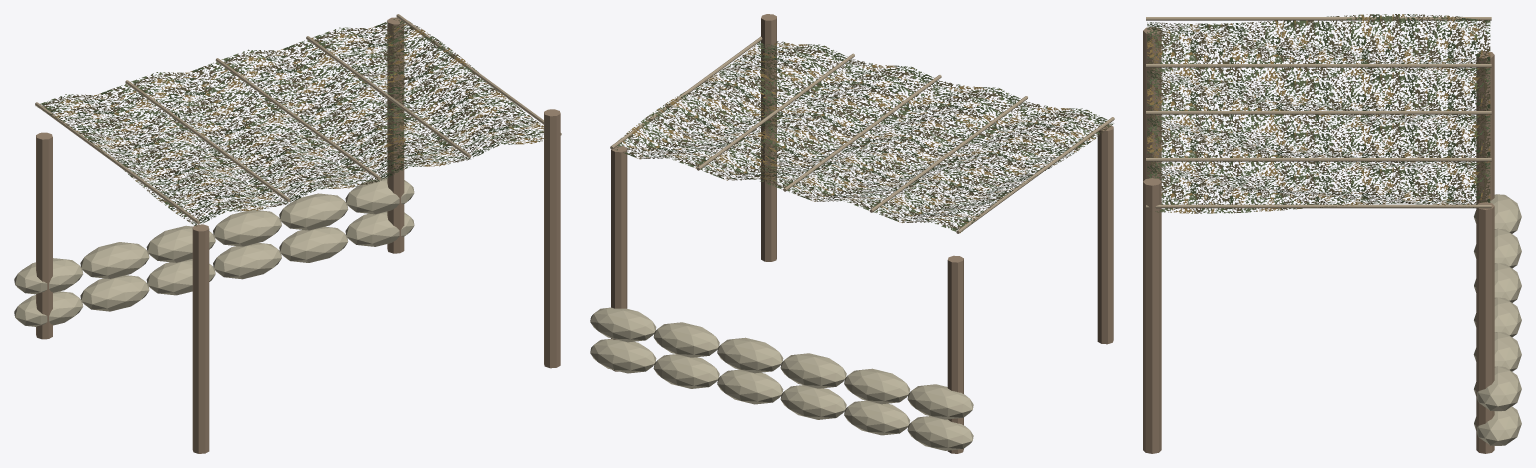
The model's file is tarnnetz_stellung_4m.glb.
3 views of the same model, side by side, from view 1: azimuth 30°, elevation 25°; view 2: azimuth 150°, elevation 25°; view 3: azimuth 270°, elevation 25° (orthographic). The views are drawn at different scales.
Parts seen in each view (by area): view 1: tarnnetz_stellung_4m_004, tarnnetz_stellung_4m_003, tarnnetz_stellung_4m_001, tarnnetz_stellung_4m_000, tarnnetz_stellung_4m_002, tarnnetz_stellung_4m_019, tarnnetz_stellung_4m_013, tarnnetz_stellung_4m_017, tarnnetz_stellung_4m_012, tarnnetz_stellung_4m_016, tarnnetz_stellung_4m_018, tarnnetz_stellung_4m_021 (+10 smaller); view 2: tarnnetz_stellung_4m_004, tarnnetz_stellung_4m_001, tarnnetz_stellung_4m_003, tarnnetz_stellung_4m_002, tarnnetz_stellung_4m_000, tarnnetz_stellung_4m_019, tarnnetz_stellung_4m_013, tarnnetz_stellung_4m_015, tarnnetz_stellung_4m_017, tarnnetz_stellung_4m_021, tarnnetz_stellung_4m_011, tarnnetz_stellung_4m_016 (+10 smaller); view 3: tarnnetz_stellung_4m_004, tarnnetz_stellung_4m_003, tarnnetz_stellung_4m_002, tarnnetz_stellung_4m_001, tarnnetz_stellung_4m_000, tarnnetz_stellung_4m_009, tarnnetz_stellung_4m_021, tarnnetz_stellung_4m_006, tarnnetz_stellung_4m_007, tarnnetz_stellung_4m_008, tarnnetz_stellung_4m_020, tarnnetz_stellung_4m_005 (+5 smaller).
Boxes of the visible parts, <box> form: tarnnetz_stellung_4m_004: <box>35,18,547,226</box>; tarnnetz_stellung_4m_003: <box>544,109,560,368</box>; tarnnetz_stellung_4m_001: <box>192,224,209,453</box>; tarnnetz_stellung_4m_000: <box>36,132,52,339</box>; tarnnetz_stellung_4m_002: <box>387,17,404,253</box>; tarnnetz_stellung_4m_019: <box>279,193,348,230</box>; tarnnetz_stellung_4m_013: <box>80,242,149,278</box>; tarnnetz_stellung_4m_017: <box>213,209,281,246</box>; tarnnetz_stellung_4m_012: <box>80,275,149,311</box>; tarnnetz_stellung_4m_016: <box>213,243,281,279</box>; tarnnetz_stellung_4m_018: <box>279,226,348,262</box>; tarnnetz_stellung_4m_021: <box>345,177,414,214</box>; tarnnetz_stellung_4m_004: <box>614,41,1113,232</box>; tarnnetz_stellung_4m_001: <box>1097,124,1113,344</box>; tarnnetz_stellung_4m_003: <box>761,14,776,261</box>; tarnnetz_stellung_4m_002: <box>611,145,627,371</box>; tarnnetz_stellung_4m_000: <box>947,255,963,453</box>; tarnnetz_stellung_4m_019: <box>653,322,719,357</box>; tarnnetz_stellung_4m_013: <box>844,368,910,404</box>; tarnnetz_stellung_4m_015: <box>780,353,846,388</box>; tarnnetz_stellung_4m_017: <box>717,337,783,373</box>; tarnnetz_stellung_4m_021: <box>590,307,656,342</box>; tarnnetz_stellung_4m_011: <box>907,384,973,419</box>; tarnnetz_stellung_4m_016: <box>717,369,783,404</box>; tarnnetz_stellung_4m_004: <box>1147,14,1490,213</box>; tarnnetz_stellung_4m_003: <box>1143,178,1161,453</box>; tarnnetz_stellung_4m_002: <box>1476,202,1494,453</box>; tarnnetz_stellung_4m_001: <box>1143,27,1161,181</box>; tarnnetz_stellung_4m_000: <box>1476,51,1494,203</box>; tarnnetz_stellung_4m_009: <box>1146,204,1491,208</box>; tarnnetz_stellung_4m_021: <box>1474,366,1521,411</box>; tarnnetz_stellung_4m_006: <box>1146,64,1491,67</box>; tarnnetz_stellung_4m_007: <box>1146,111,1491,114</box>; tarnnetz_stellung_4m_008: <box>1146,158,1491,161</box>; tarnnetz_stellung_4m_020: <box>1474,406,1521,445</box>; tarnnetz_stellung_4m_005: <box>1146,17,1491,20</box>.
Size of the model in its own units: 3.97 by 2.4 by 3.07.
1 material, 1 textured.
